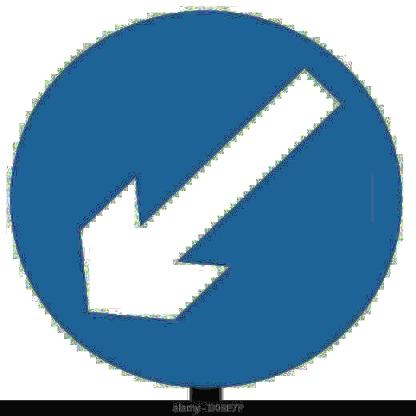Keep left: (5, 12, 404, 390)
